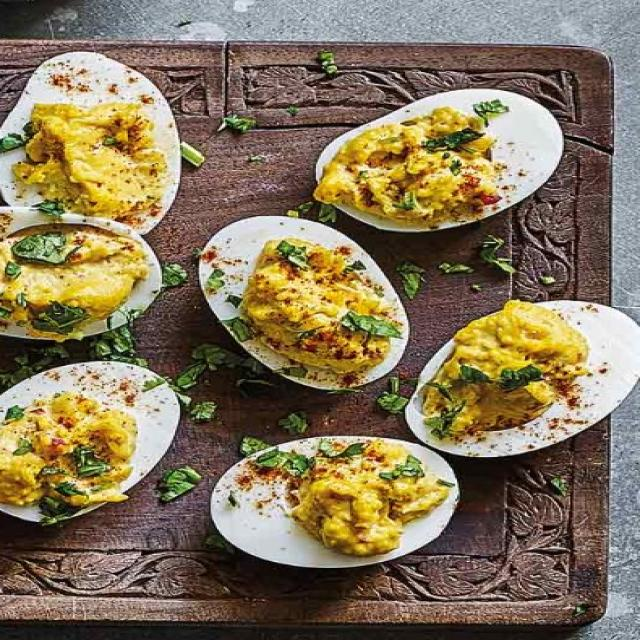EGG: (208, 297, 638, 566), (0, 50, 180, 344), (190, 216, 406, 388), (319, 87, 564, 228), (210, 436, 458, 566)
